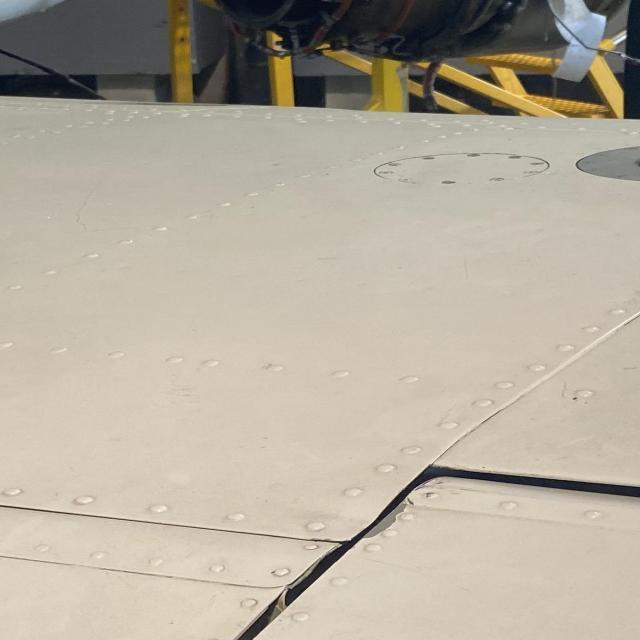Paint-off: (357, 500, 409, 539)
